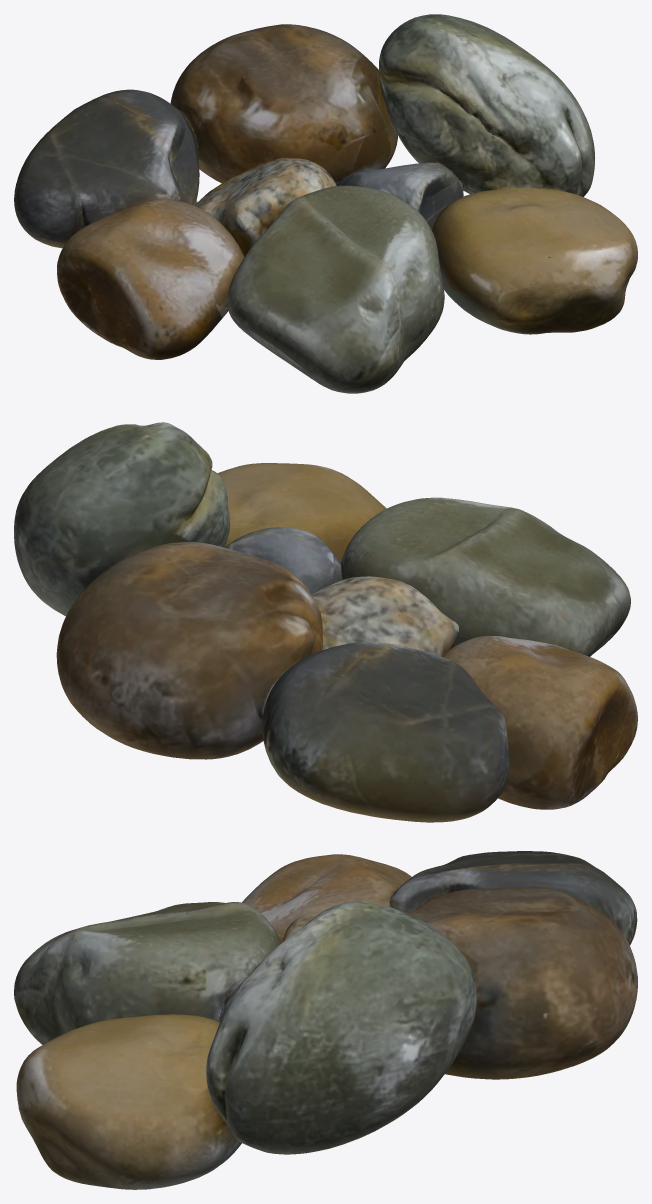
Rendered from gravel.glb.
3 views of the same model, one above another, from view 1: azimuth 30°, elevation 25°; view 2: azimuth 150°, elevation 25°; view 3: azimuth 270°, elevation 25° (orthographic). The views are drawn at different scales.
Visible parts, largest first — view 1: geometry_0; view 2: geometry_0; view 3: geometry_0.
Part boxes in pixels (box(x1,y1,x2,y2)): geometry_0: box(14, 14, 637, 393); geometry_0: box(14, 422, 637, 822); geometry_0: box(14, 851, 637, 1189).
Size of the model in its own units: 0.06 by 0.0272 by 0.0589.
1 material, 1 textured.
